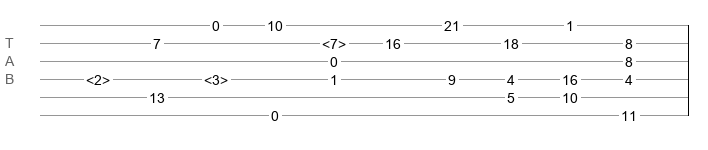0: (212, 18, 220, 28), (271, 108, 279, 118), (330, 54, 338, 64)
1: (330, 72, 338, 82), (566, 18, 574, 28)
10: (267, 18, 283, 28), (562, 90, 578, 100)
11: (621, 108, 637, 118)
13: (149, 90, 165, 100)
16: (385, 36, 401, 46), (562, 72, 578, 82)
18: (503, 36, 519, 46)
21: (444, 18, 460, 28)
4: (507, 72, 515, 82), (625, 72, 633, 82)
5: (507, 90, 515, 100)
7: (153, 36, 161, 46)
8: (625, 36, 633, 46), (625, 54, 633, 64)
9: (448, 72, 456, 82)
harmonic: (86, 72, 110, 82), (204, 72, 228, 82), (322, 36, 346, 46)
